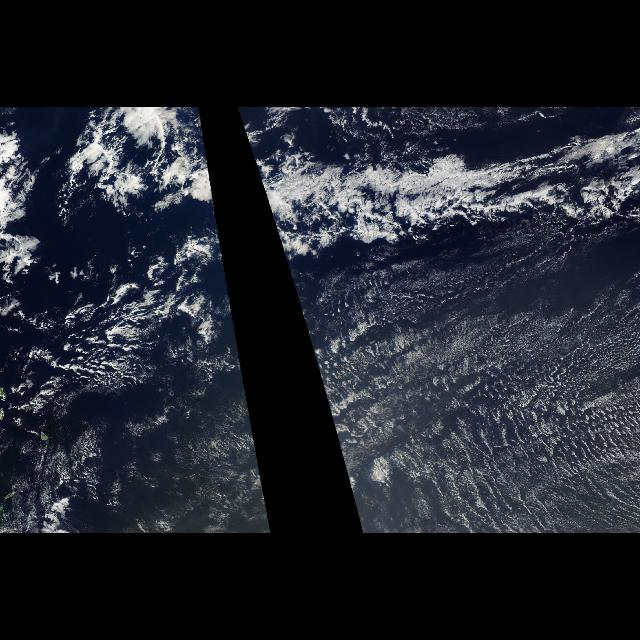Fish: (239, 115, 639, 288), (6, 115, 228, 288)
Gravel: (38, 247, 232, 385)
Sugar: (296, 274, 638, 534), (82, 290, 272, 532)
